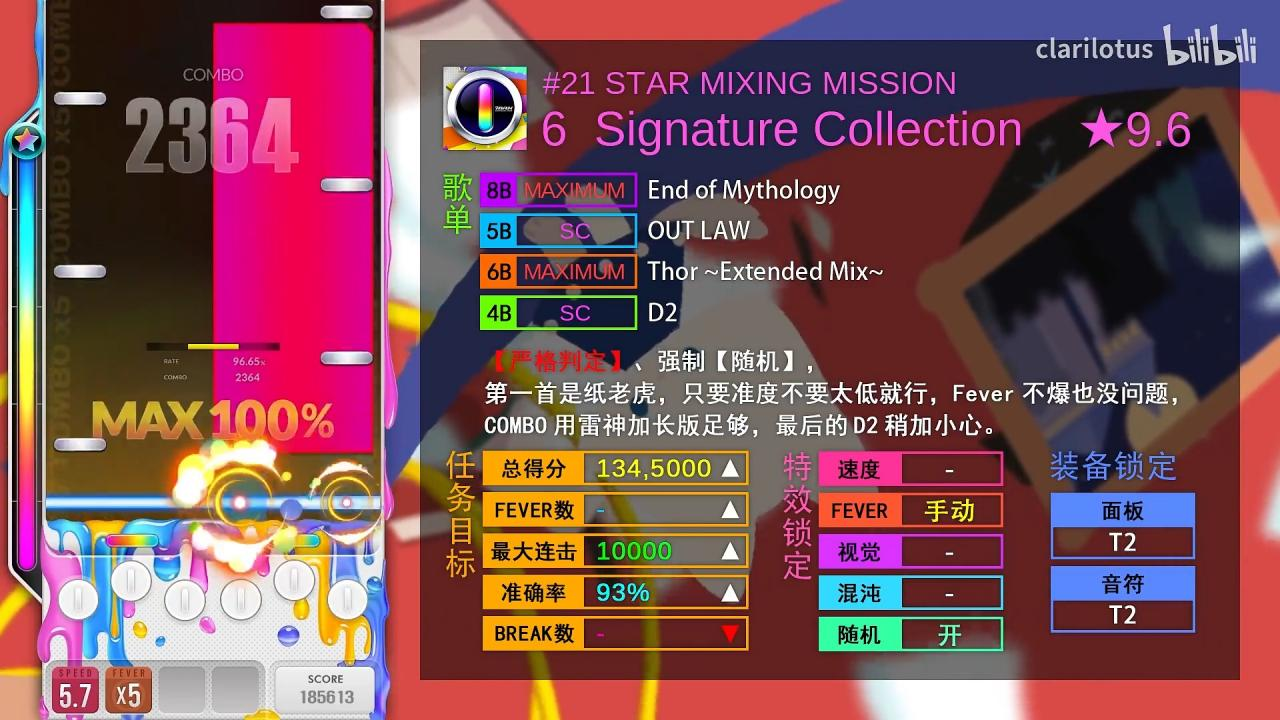note: (320, 350, 374, 366), (320, 178, 373, 193), (53, 437, 106, 452), (54, 264, 106, 278), (54, 92, 106, 105), (321, 6, 373, 18)
xend: (213, 22, 374, 38)
xstart: (211, 438, 374, 454)
